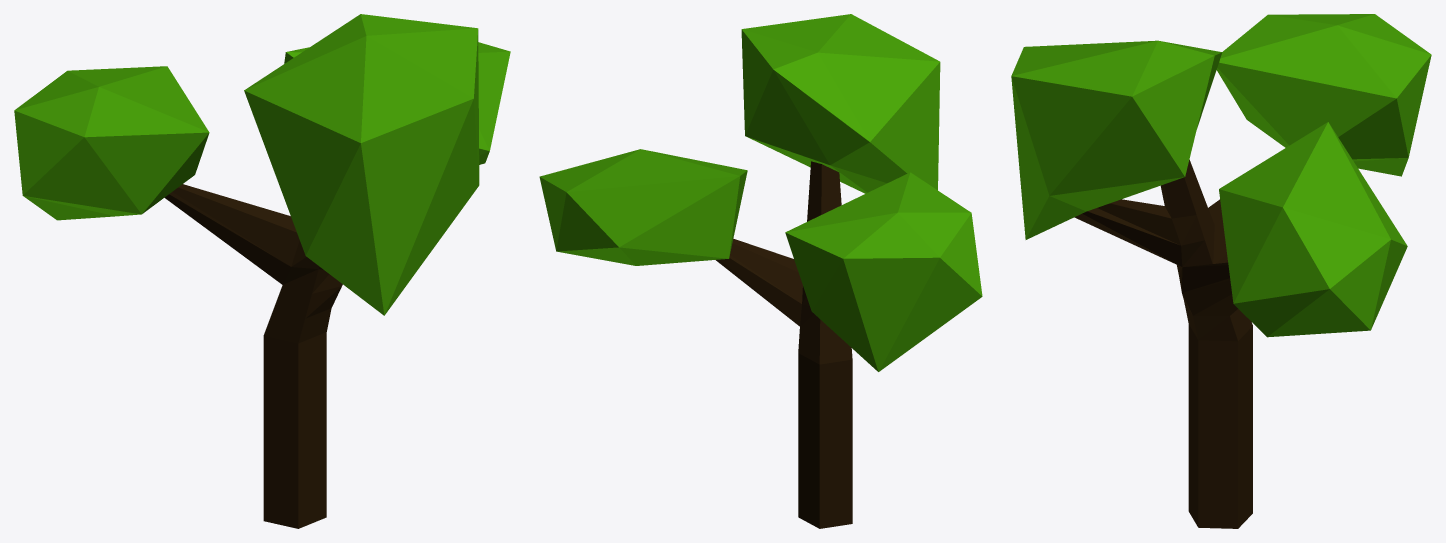
Rendered from lowpolytree.obj.
3 renders of one model, left to right at view 1: azimuth 30°, elevation 25°; view 2: azimuth 150°, elevation 25°; view 3: azimuth 270°, elevation 25°, orthographic. The views are drawn at different scales.
Parts seen in each view (by area): view 1: leaf2_Icosphere.009, leaf3_Icosphere.010, Tree.001_Cylinder.005, leaf1_Icosphere.011; view 2: leaf2_Icosphere.009, leaf3_Icosphere.010, leaf1_Icosphere.011, Tree.001_Cylinder.005; view 3: leaf2_Icosphere.009, leaf1_Icosphere.011, leaf3_Icosphere.010, Tree.001_Cylinder.005.
Boxes of the visible parts, x1=… form: leaf2_Icosphere.009: x1=244, y1=14, x2=479, y2=315; leaf3_Icosphere.010: x1=14, y1=66, x2=209, y2=220; Tree.001_Cylinder.005: x1=164, y1=184, x2=342, y2=528; leaf1_Icosphere.011: x1=284, y1=42, x2=510, y2=164; leaf2_Icosphere.009: x1=741, y1=14, x2=940, y2=193; leaf3_Icosphere.010: x1=785, y1=172, x2=982, y2=371; leaf1_Icosphere.011: x1=539, y1=149, x2=747, y2=265; Tree.001_Cylinder.005: x1=716, y1=161, x2=852, y2=528; leaf2_Icosphere.009: x1=1011, y1=40, x2=1222, y2=239; leaf1_Icosphere.011: x1=1219, y1=122, x2=1407, y2=337; leaf3_Icosphere.010: x1=1216, y1=14, x2=1431, y2=176; Tree.001_Cylinder.005: x1=1074, y1=159, x2=1252, y2=528.
Bounding box in the file's own units: 2.22 × 2.11 × 1.62.
